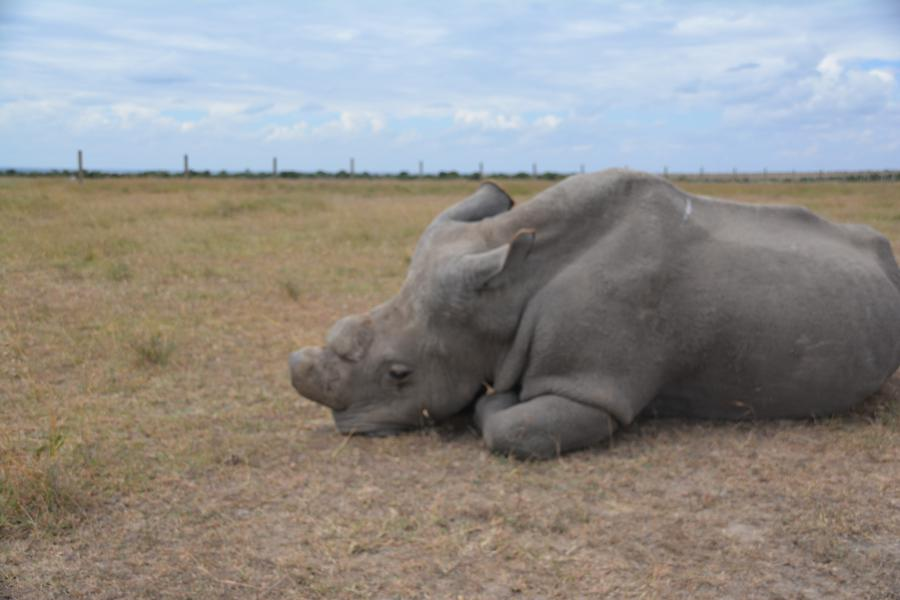rhino: (313, 152, 862, 437)
